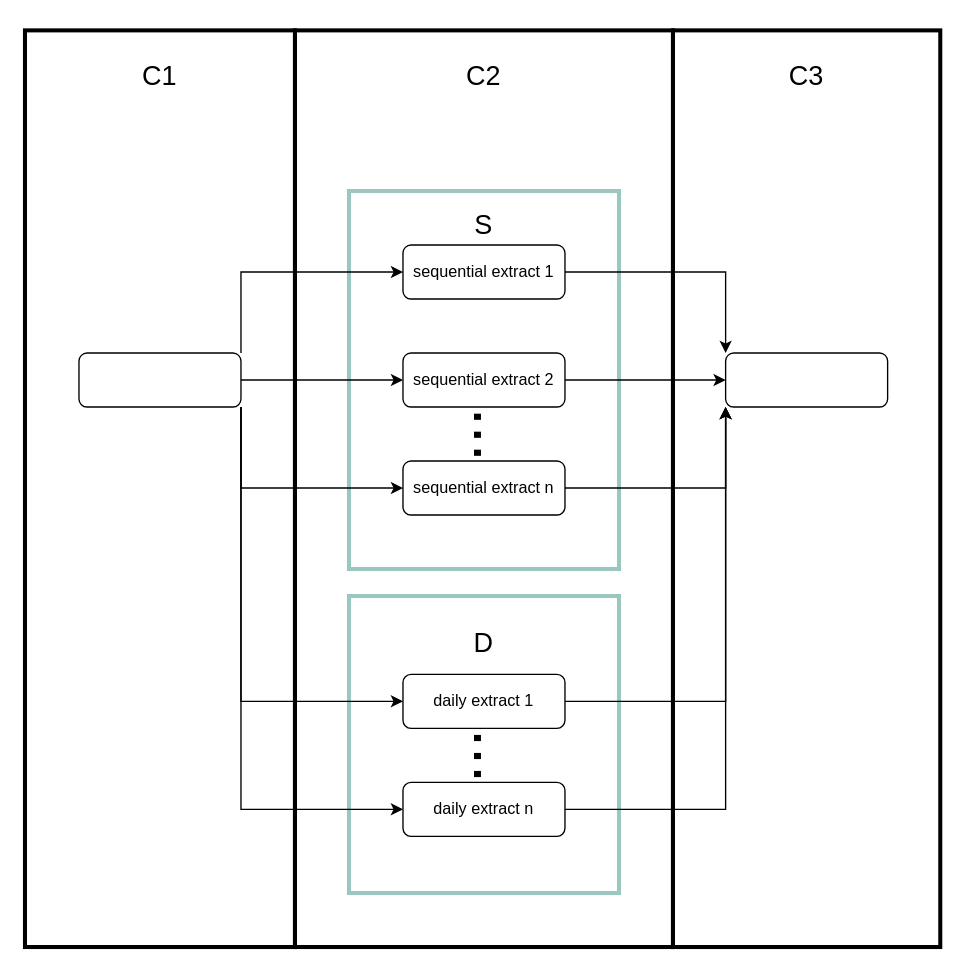
Image size: 965x972. Some labels were removed from this diagram. The box of each missing label's shape, as (x1, y1, x2, y2) in pixels:
final task: (724, 352, 888, 407)
start task: (78, 352, 241, 407)
